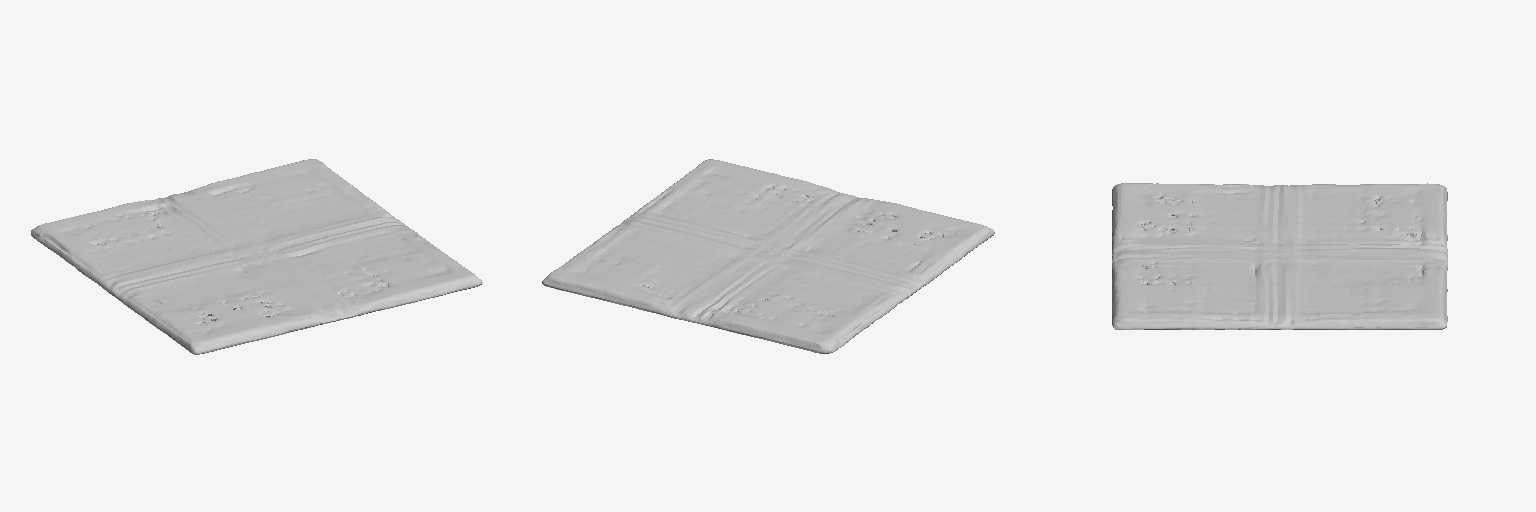
The model's file is 0562ec73830c_a_large_sci_fi_mill.obj.
The picture shows the model from 3 angles: view 1: azimuth 30°, elevation 25°; view 2: azimuth 150°, elevation 25°; view 3: azimuth 270°, elevation 25°; orthographic projection.
Visible parts, largest first — view 1: mesh; view 2: mesh; view 3: mesh.
Part boxes in pixels (bbox=[...]): mesh: bbox=[31, 159, 482, 354]; mesh: bbox=[542, 159, 994, 353]; mesh: bbox=[1112, 183, 1447, 329].
Bounding box in the file's own units: 0.9961 × 0.0367 × 0.998.